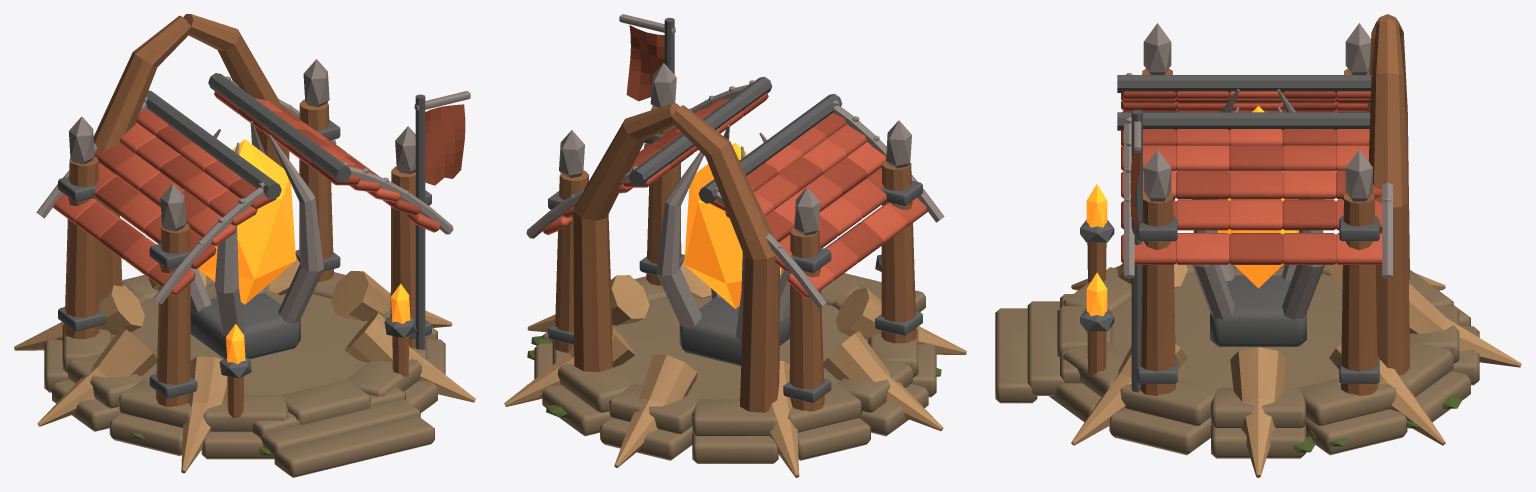
3 views of the same model, side by side, from view 1: azimuth 30°, elevation 25°; view 2: azimuth 150°, elevation 25°; view 3: azimuth 270°, elevation 25° (orthographic). The views are drawn at different scales.
Visible parts, largest first — view 1: Rootbound Hall · evaluated preview mesh; view 2: Rootbound Hall · evaluated preview mesh; view 3: Rootbound Hall · evaluated preview mesh.
Boxes of the visible parts, box(x1,y1,x2,y2) form: Rootbound Hall · evaluated preview mesh: box(14, 14, 475, 477); Rootbound Hall · evaluated preview mesh: box(504, 14, 966, 477); Rootbound Hall · evaluated preview mesh: box(995, 14, 1521, 477).
Size of the model in its own units: 6.52 by 4.8 by 6.52.
